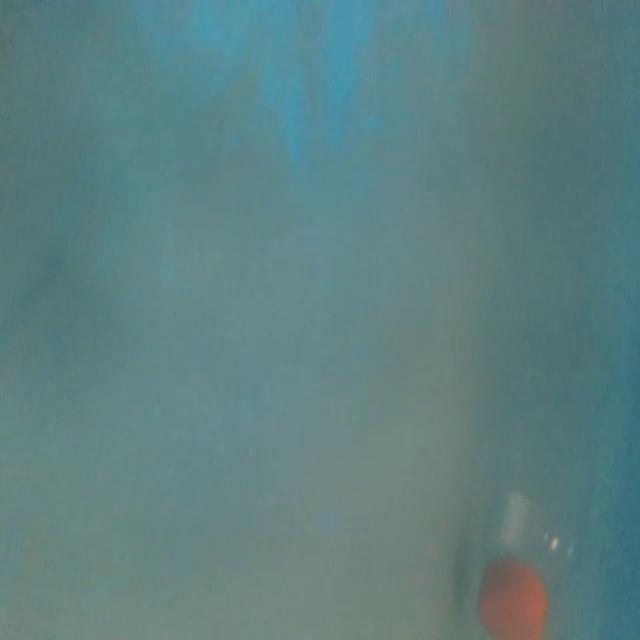plastic bottle: (474, 322, 603, 640)
